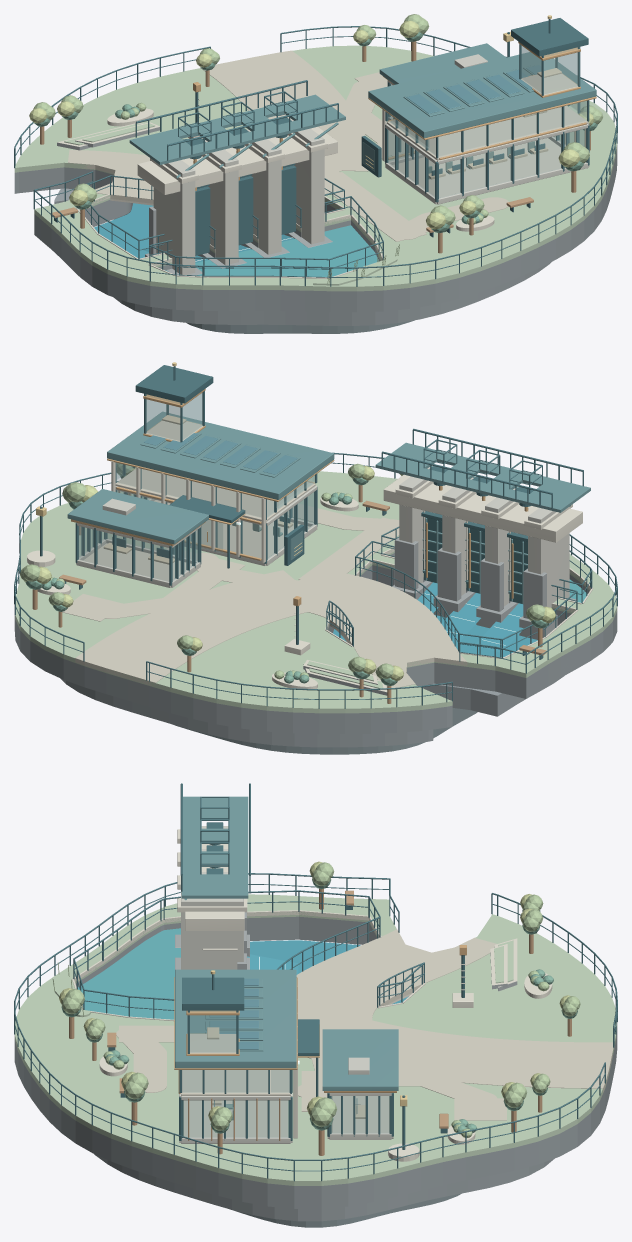
The model's file is flood-control-g.glb.
3 renders of one model, top to bottom at view 1: azimuth 30°, elevation 25°; view 2: azimuth 150°, elevation 25°; view 3: azimuth 270°, elevation 25°, orthographic. The views are drawn at different scales.
Parts seen in each view (by area): view 1: Terrain_Foundation_Components__green, Terrain_Foundation_Components__rock, Terrain_Foundation_Components__floor, Triple_Sluice_Mechanics_Components__concrete, Command_Centre_Components__steel_lite, Walkways_Railings_Components__steel, Command_Centre_Components__glass2, Command_Centre_Components__floor, Triple_Sluice_Mechanics_Components__steel_lite, Triple_Sluice_Mechanics_Components__steel, Command_Centre_Components__steel, Hydraulic_Water_Components__water_upper (+24 smaller); view 2: Terrain_Foundation_Components__green, Terrain_Foundation_Components__floor, Terrain_Foundation_Components__rock, Command_Centre_Components__steel_lite, Walkways_Railings_Components__steel, Command_Centre_Components__glass2, Command_Centre_Components__steel, Triple_Sluice_Mechanics_Components__steel_lite, Triple_Sluice_Mechanics_Components__concrete, Triple_Sluice_Mechanics_Components__concrete_shadow, Command_Centre_Components__floor, Triple_Sluice_Mechanics_Components__concrete2 (+21 smaller); view 3: Terrain_Foundation_Components__green, Terrain_Foundation_Components__floor, Terrain_Foundation_Components__rock, Command_Centre_Components__steel_lite, Walkways_Railings_Components__steel, Command_Centre_Components__floor, Command_Centre_Components__glass, Triple_Sluice_Mechanics_Components__steel_lite, Hydraulic_Water_Components__water_upper, Command_Centre_Components__steel, Riparian_Landscape_Components__leaf2, Triple_Sluice_Mechanics_Components__concrete (+17 smaller).
Part boxes in pixels (bbox=[...]): Terrain_Foundation_Components__green: bbox=[14, 45, 617, 291]; Terrain_Foundation_Components__rock: bbox=[14, 145, 617, 325]; Terrain_Foundation_Components__floor: bbox=[68, 50, 508, 241]; Triple_Sluice_Mechanics_Components__concrete: bbox=[153, 119, 324, 274]; Command_Centre_Components__steel_lite: bbox=[368, 43, 596, 138]; Walkways_Railings_Components__steel: bbox=[14, 26, 617, 286]; Command_Centre_Components__glass2: bbox=[363, 101, 587, 198]; Command_Centre_Components__floor: bbox=[387, 106, 588, 197]; Triple_Sluice_Mechanics_Components__steel_lite: bbox=[129, 94, 345, 178]; Triple_Sluice_Mechanics_Components__steel: bbox=[135, 80, 338, 255]; Command_Centre_Components__steel: bbox=[385, 18, 589, 202]; Hydraulic_Water_Components__water_upper: bbox=[165, 225, 378, 276]; Terrain_Foundation_Components__green: bbox=[15, 471, 617, 713]; Terrain_Foundation_Components__floor: bbox=[62, 503, 467, 687]; Terrain_Foundation_Components__rock: bbox=[14, 553, 617, 747]; Command_Centre_Components__steel_lite: bbox=[67, 411, 334, 544]; Walkways_Railings_Components__steel: bbox=[14, 439, 617, 708]; Command_Centre_Components__glass2: bbox=[78, 463, 313, 581]; Command_Centre_Components__steel: bbox=[75, 365, 317, 585]; Triple_Sluice_Mechanics_Components__steel_lite: bbox=[375, 442, 590, 603]; Triple_Sluice_Mechanics_Components__concrete: bbox=[399, 465, 569, 607]; Triple_Sluice_Mechanics_Components__concrete_shadow: bbox=[392, 537, 576, 639]; Command_Centre_Components__floor: bbox=[83, 469, 315, 580]; Triple_Sluice_Mechanics_Components__concrete2: bbox=[383, 474, 582, 590]; Terrain_Foundation_Components__green: bbox=[14, 894, 617, 1185]; Terrain_Foundation_Components__floor: bbox=[116, 929, 613, 1120]; Terrain_Foundation_Components__rock: bbox=[14, 916, 617, 1221]; Command_Centre_Components__steel_lite: bbox=[175, 969, 398, 1090]; Walkways_Railings_Components__steel: bbox=[14, 796, 617, 1181]; Command_Centre_Components__floor: bbox=[181, 1070, 389, 1136]; Command_Centre_Components__glass: bbox=[183, 1070, 389, 1137]; Triple_Sluice_Mechanics_Components__steel_lite: bbox=[181, 796, 248, 900]; Hydraulic_Water_Components__water_upper: bbox=[78, 928, 180, 1019]; Command_Centre_Components__steel: bbox=[179, 974, 393, 1140]; Riparian_Landscape_Components__leaf2: bbox=[53, 862, 580, 1137]; Triple_Sluice_Mechanics_Components__concrete: bbox=[181, 826, 243, 969].
Bounding box in the file's own units: 38.89 × 16.72 × 34.55.
